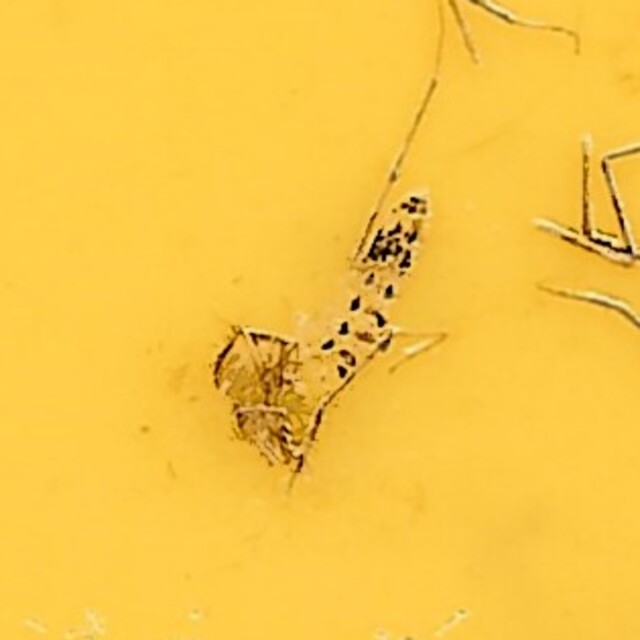Nematocera: (203, 186, 437, 454)
